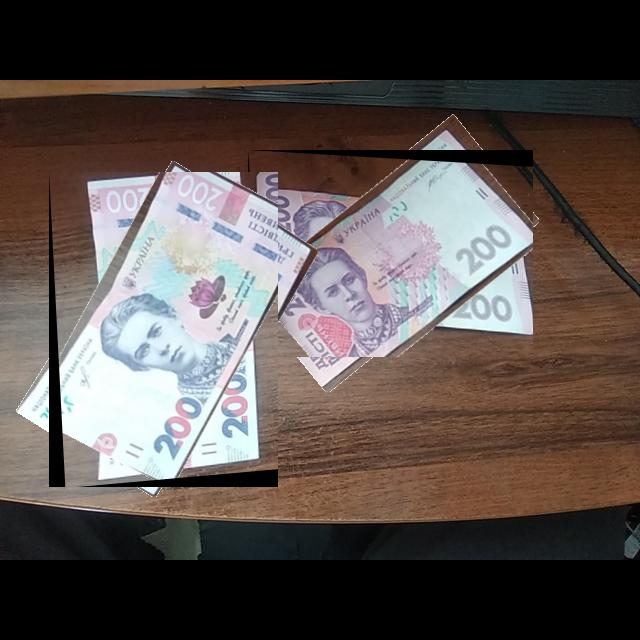200uah: (49, 172, 279, 488), (248, 150, 534, 358)
